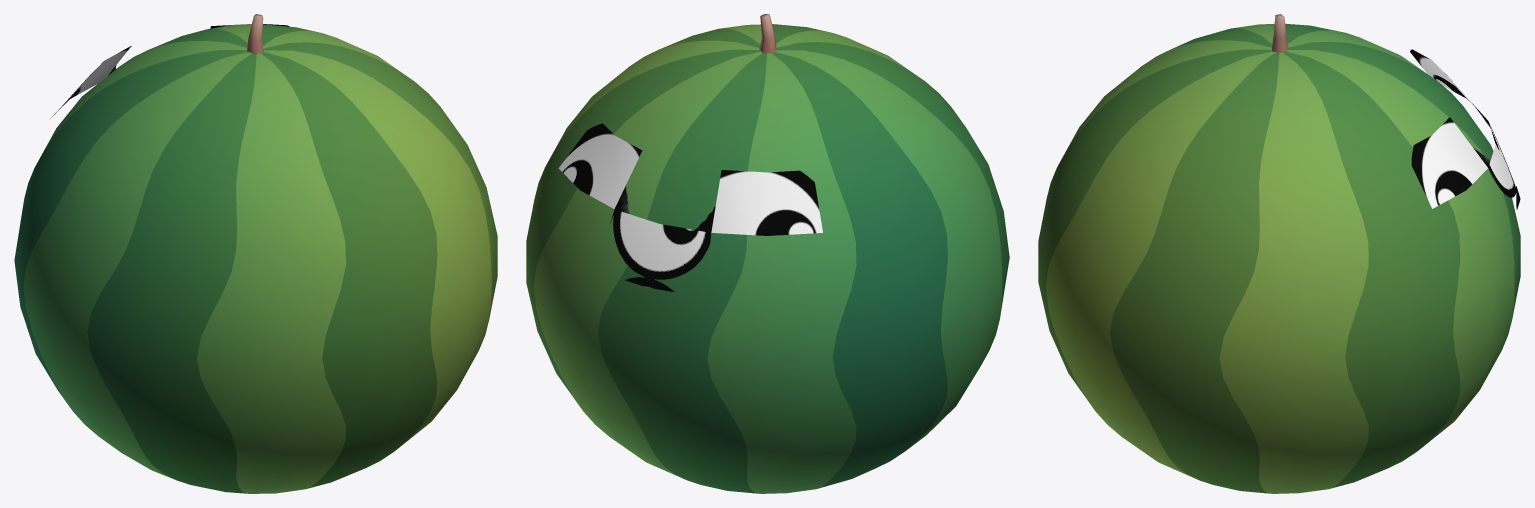
Rendered from watermelon_smile.fbx.
3 renders of one model, left to right at view 1: azimuth 30°, elevation 25°; view 2: azimuth 150°, elevation 25°; view 3: azimuth 270°, elevation 25°, orthographic.
Visible parts, largest first — view 1: watermelon_smile; view 2: watermelon_smile; view 3: watermelon_smile.
Boxes of the visible parts, left/top/right/bottom form: watermelon_smile: left=14, top=14, right=497, bottom=493; watermelon_smile: left=526, top=14, right=1009, bottom=493; watermelon_smile: left=1038, top=14, right=1520, bottom=493.
Size of the model in its own units: 86.99 by 89.89 by 86.72.
